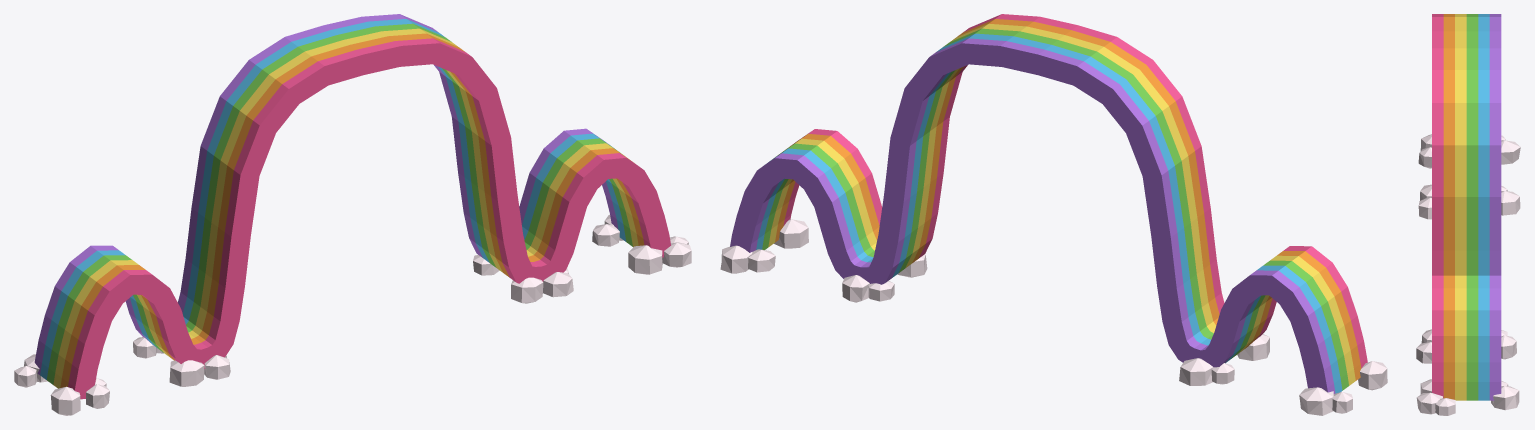
The model's file is CV3_LicoriceArch.fbx.
The picture shows the model from 3 angles, left to right: view 1: azimuth 30°, elevation 25°; view 2: azimuth 150°, elevation 25°; view 3: azimuth 270°, elevation 25°; orthographic projection. The views are drawn at different scales.
Visible parts, largest first — view 1: CV3_LicoriceArch_Pink, CV3_LicoriceArch_Orange, CV3_LicoriceArch_Yellow, CV3_LicoriceArch_Green, CV3_LicoriceArch_Blue, CV3_LicoriceArch_Clouds, CV3_LicoriceArch_Purple; view 2: CV3_LicoriceArch_Purple, CV3_LicoriceArch_Blue, CV3_LicoriceArch_Green, CV3_LicoriceArch_Yellow, CV3_LicoriceArch_Orange, CV3_LicoriceArch_Pink, CV3_LicoriceArch_Clouds; view 3: CV3_LicoriceArch_Green, CV3_LicoriceArch_Purple, CV3_LicoriceArch_Blue, CV3_LicoriceArch_Yellow, CV3_LicoriceArch_Orange, CV3_LicoriceArch_Pink, CV3_LicoriceArch_Clouds.
Boxes of the visible parts, x1,y1,x2,y2 form: CV3_LicoriceArch_Pink: (68,38,670,399); CV3_LicoriceArch_Orange: (60,33,644,387); CV3_LicoriceArch_Yellow: (53,28,638,388); CV3_LicoriceArch_Green: (47,23,632,384); CV3_LicoriceArch_Blue: (40,19,626,379); CV3_LicoriceArch_Clouds: (14,214,691,415); CV3_LicoriceArch_Purple: (34,14,618,374); CV3_LicoriceArch_Purple: (730,38,1335,393); CV3_LicoriceArch_Blue: (756,33,1342,393); CV3_LicoriceArch_Green: (762,28,1348,390); CV3_LicoriceArch_Yellow: (768,23,1355,385); CV3_LicoriceArch_Orange: (775,19,1361,380); CV3_LicoriceArch_Pink: (783,14,1367,368); CV3_LicoriceArch_Clouds: (720,219,1387,415); CV3_LicoriceArch_Green: (1466,14,1478,400); CV3_LicoriceArch_Purple: (1489,14,1501,400); CV3_LicoriceArch_Blue: (1478,14,1489,400); CV3_LicoriceArch_Yellow: (1455,14,1466,400); CV3_LicoriceArch_Orange: (1443,14,1454,399); CV3_LicoriceArch_Pink: (1432,14,1443,398); CV3_LicoriceArch_Clouds: (1416,134,1520,415).
Size of the model in its own units: 77.83 by 33.75 by 12.68.
